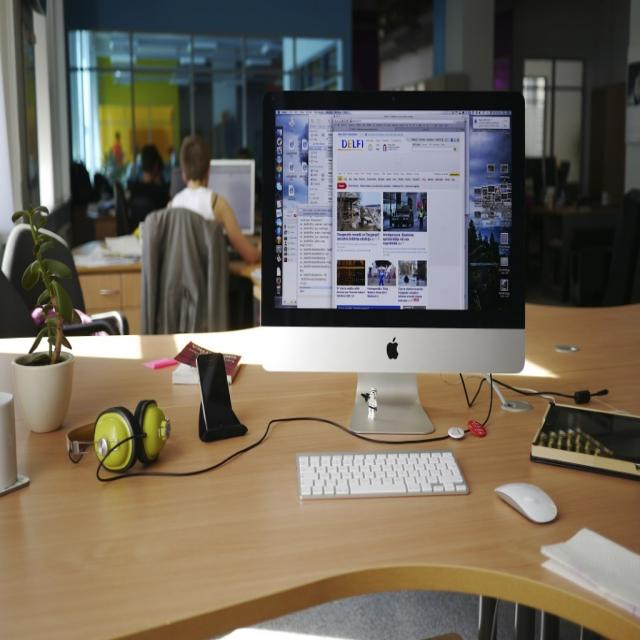chair: (140, 208, 230, 334), (582, 187, 639, 306)
desk: (1, 305, 638, 635)
keyboard: (529, 402, 640, 480), (297, 450, 467, 500)
mouse: (494, 482, 558, 524)
person: (128, 144, 168, 224)
tv: (258, 88, 527, 372), (206, 159, 257, 236)
